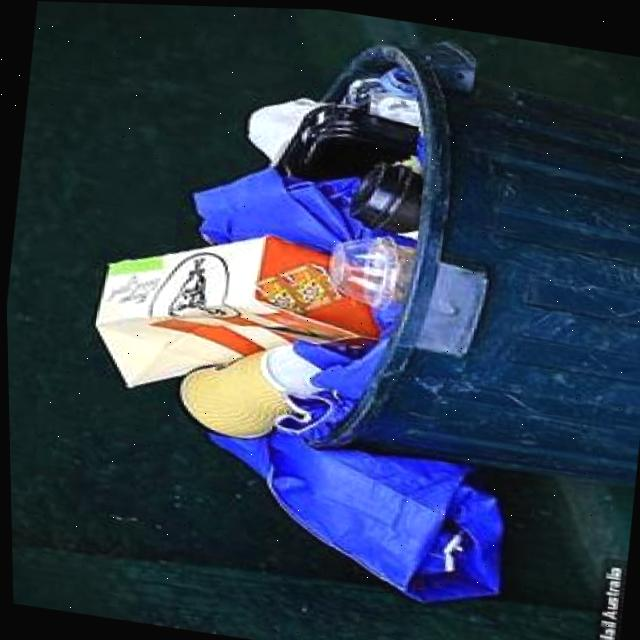Garbage: (94, 64, 497, 598)
Plastic: (190, 164, 387, 250)
Plastic_bottle: (328, 233, 414, 304), (350, 162, 421, 229)
Tetrapack: (94, 233, 375, 384)
